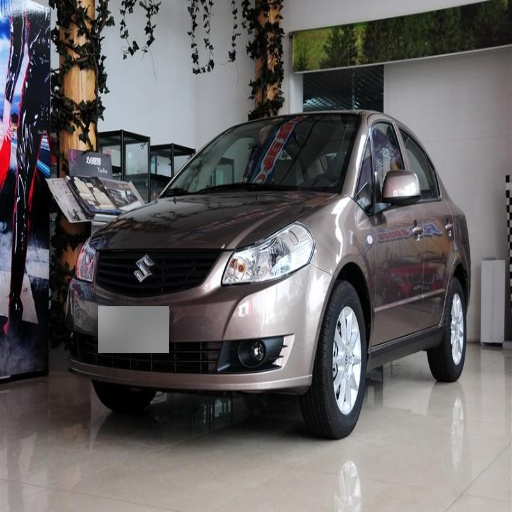front_bumper: (70, 232, 332, 394)
front_glass: (162, 114, 360, 197)
front_left_door: (358, 117, 425, 343)
